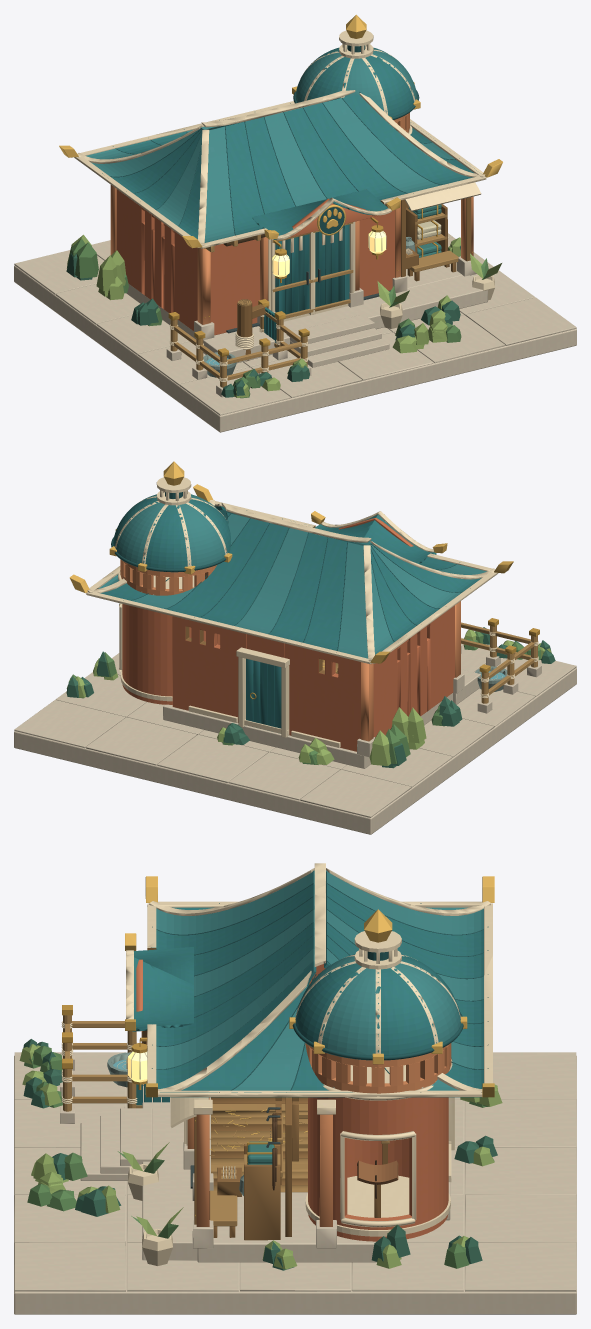
The model's file is beast-lod0-d5f9b5381a1f.glb.
3 views of the same model, one above another, from view 1: azimuth 30°, elevation 25°; view 2: azimuth 150°, elevation 25°; view 3: azimuth 270°, elevation 25° (orthographic). The views are drawn at different scales.
Parts seen in each view (by area): view 1: BZbatch_0.003, BZbatch_38.003, BZbatch_6.003, BZbatch_40.003, BZbatch_35.003, BZbatch_47.003, BZbatch_41.003, BZbatch_91.003, BZbatch_12.003, BZbatch_70.003, BZbatch_86.003, BZbatch_90.003 (+3 smaller); view 2: BZbatch_0.003, BZbatch_6.003, BZbatch_38.003, BZbatch_35.003, BZbatch_40.003, BZbatch_12.003, BZbatch_91.003, BZbatch_86.003, BZbatch_47.003, BZbatch_41.003, BZbatch_42.003, BZbatch_90.003; view 3: BZbatch_0.003, BZbatch_38.003, BZbatch_40.003, BZbatch_35.003, BZbatch_6.003, BZbatch_47.003, BZbatch_12.003, BZbatch_70.003, BZbatch_91.003, BZbatch_86.003, BZbatch_41.003, BZbatch_90.003 (+3 smaller).
Part boxes in pixels (x1,y1,x2,y2): BZbatch_0.003: [14, 233, 576, 432]; BZbatch_38.003: [111, 47, 476, 347]; BZbatch_6.003: [116, 189, 394, 335]; BZbatch_40.003: [74, 30, 494, 381]; BZbatch_35.003: [86, 50, 454, 248]; BZbatch_47.003: [170, 212, 458, 387]; BZbatch_41.003: [102, 45, 459, 314]; BZbatch_91.003: [67, 234, 501, 397]; BZbatch_12.003: [110, 112, 473, 324]; BZbatch_70.003: [237, 197, 471, 361]; BZbatch_86.003: [66, 246, 460, 397]; BZbatch_90.003: [67, 238, 490, 398]; BZbatch_0.003: [14, 637, 576, 834]; BZbatch_6.003: [122, 518, 454, 751]; BZbatch_38.003: [100, 497, 481, 728]; BZbatch_35.003: [98, 494, 486, 658]; BZbatch_40.003: [86, 477, 538, 747]; BZbatch_12.003: [120, 559, 460, 741]; BZbatch_91.003: [75, 629, 551, 765]; BZbatch_86.003: [66, 627, 555, 768]; BZbatch_47.003: [322, 622, 537, 703]; BZbatch_41.003: [111, 492, 470, 652]; BZbatch_42.003: [69, 461, 513, 671]; BZbatch_90.003: [66, 631, 541, 764]; BZbatch_0.003: [14, 1052, 576, 1314]; BZbatch_38.003: [132, 870, 483, 1105]; BZbatch_40.003: [61, 863, 492, 1265]; BZbatch_35.003: [156, 870, 483, 1097]; BZbatch_6.003: [136, 959, 448, 1241]; BZbatch_47.003: [63, 1015, 389, 1226]; BZbatch_12.003: [187, 1043, 451, 1226]; BZbatch_70.003: [141, 948, 387, 1240]; BZbatch_91.003: [19, 1044, 502, 1269]; BZbatch_86.003: [23, 1039, 497, 1270]; BZbatch_41.003: [152, 883, 488, 1092]; BZbatch_90.003: [24, 1046, 494, 1268].
Bounding box in the file's own units: 10 × 6.82 × 10.
Materials: 23 (11 with a texture image).
